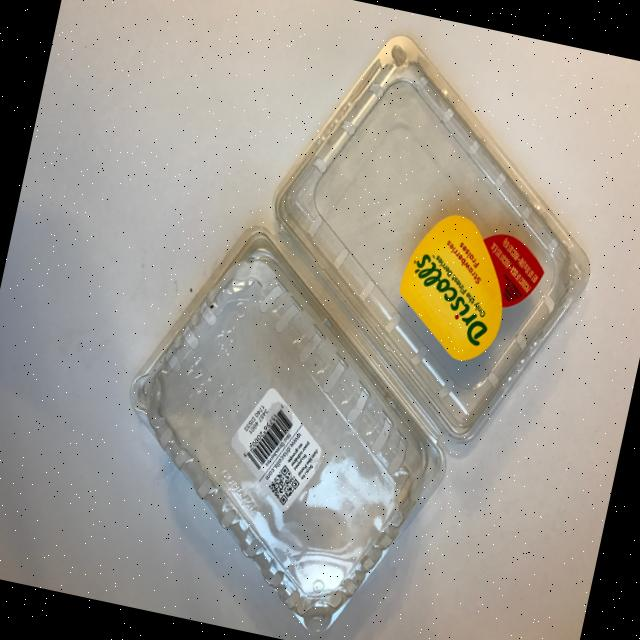plastic: (75, 0, 640, 640)
